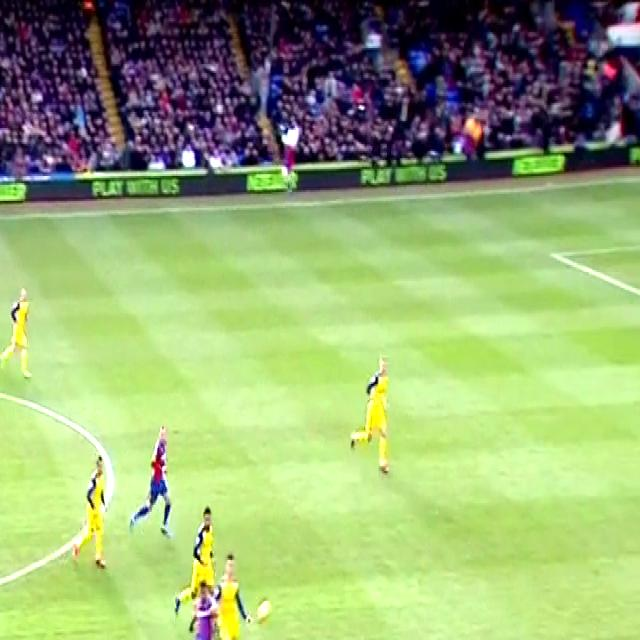ball: (256, 594, 274, 632)
soccer-player: (122, 412, 171, 540), (351, 351, 395, 482), (69, 456, 105, 575), (184, 503, 219, 614), (0, 281, 35, 384), (181, 579, 232, 640)
